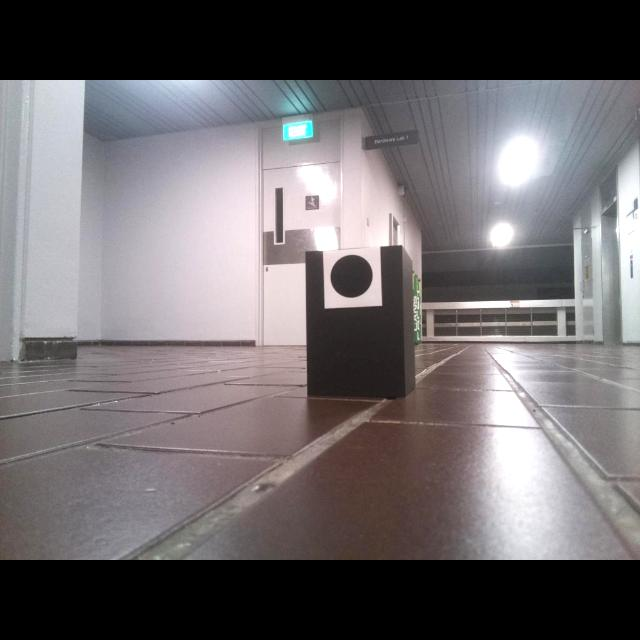CIRCLE: (330, 253, 374, 299)
